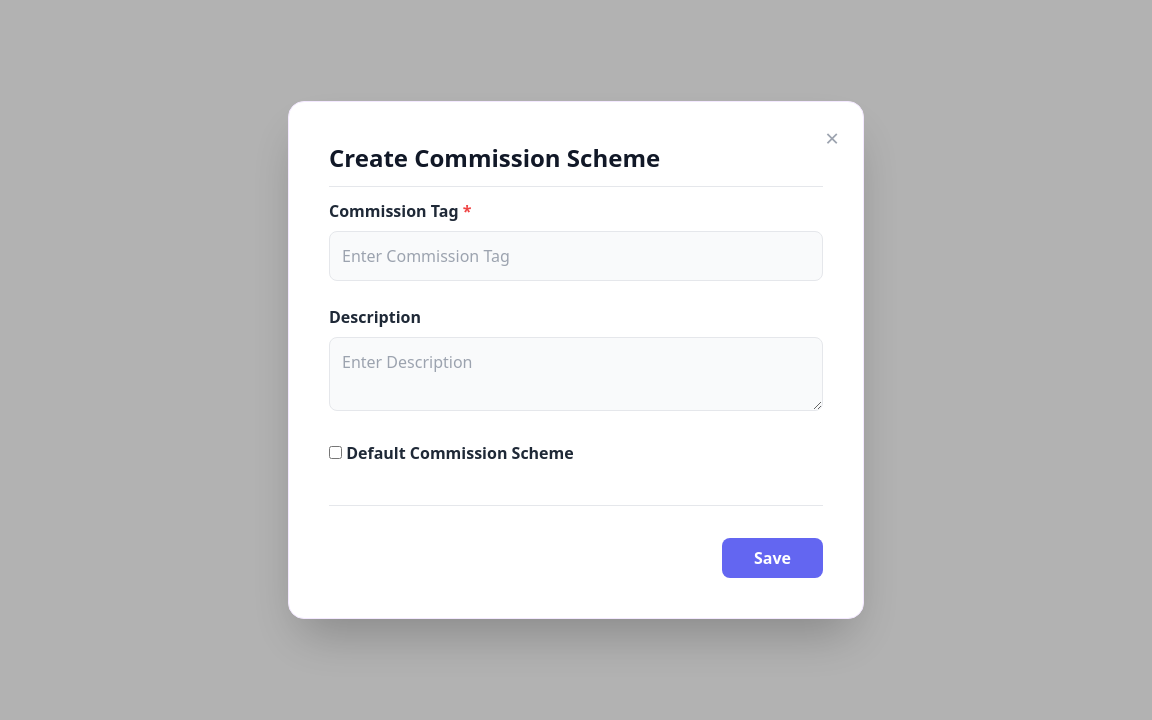
Test: CommissionSchemeCreateModal › displays error message on API failure
The width and height of the screenshot is (1152, 720).
Step 1. Type "DuplicateTag" into the field with placeholder "Enter Commission Tag" → coordinates (576, 256), box [329,231,823,281]
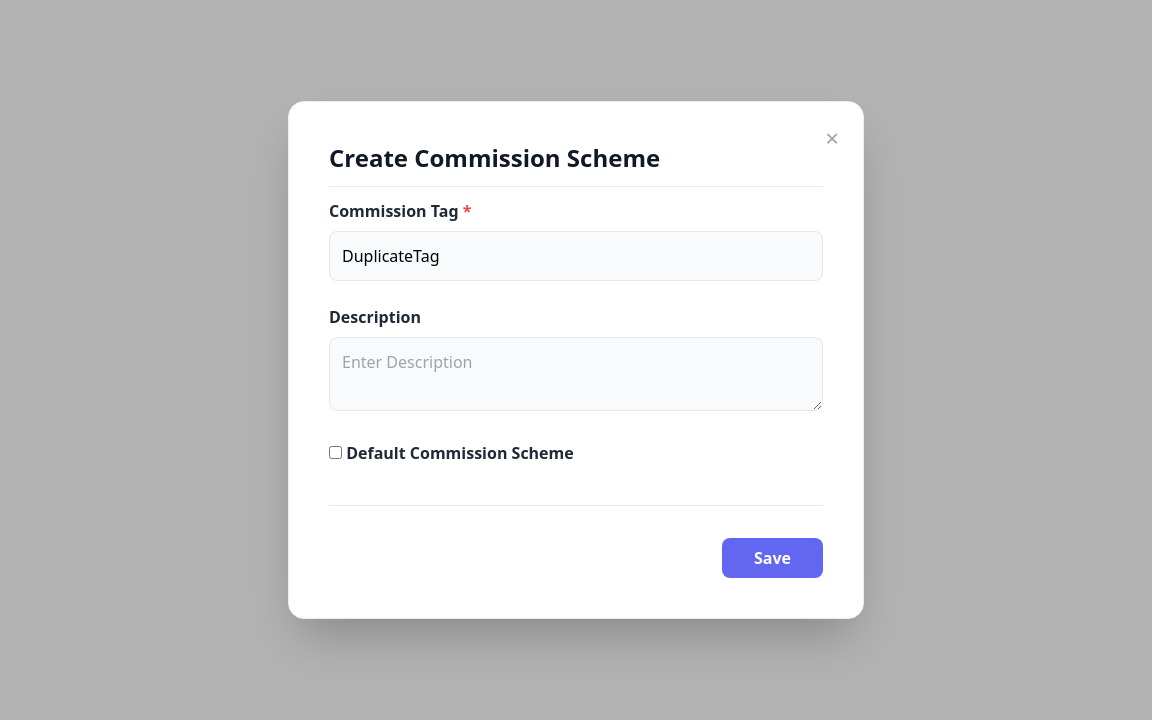
Step 2. Click the button "Save" → coordinates (772, 558), box [722,538,823,578]
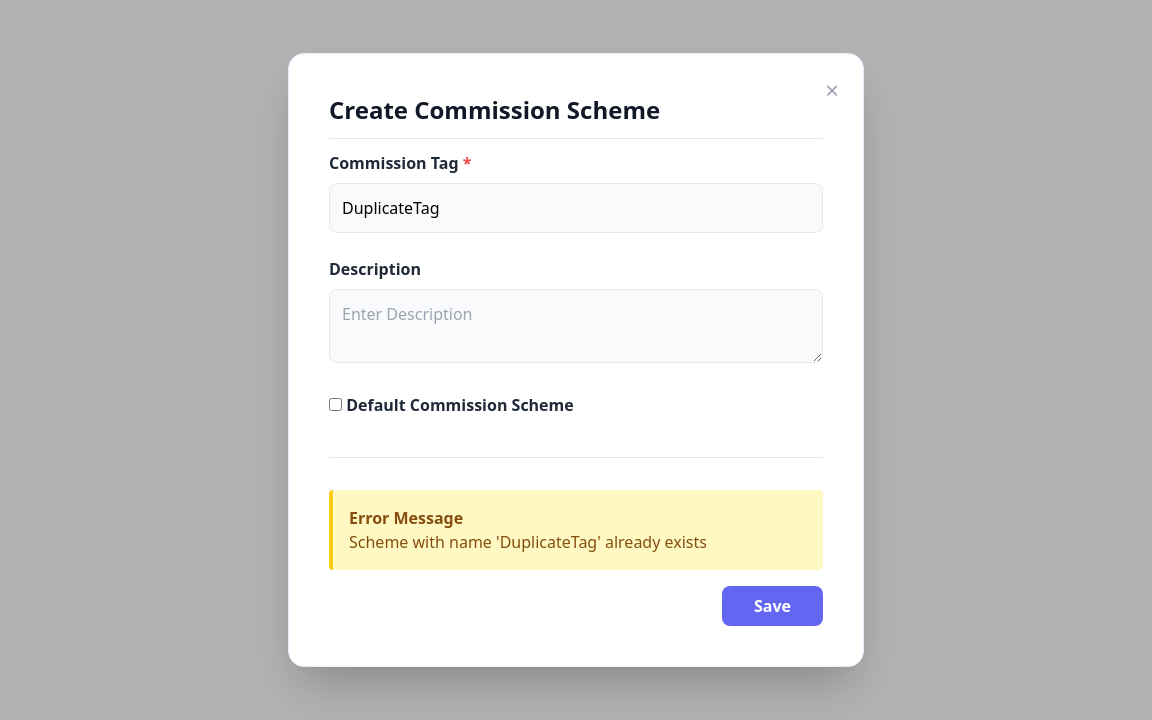
Expected: the text "Scheme with name 'DuplicateTag' already exists" is shown, [349,531,707,553]
